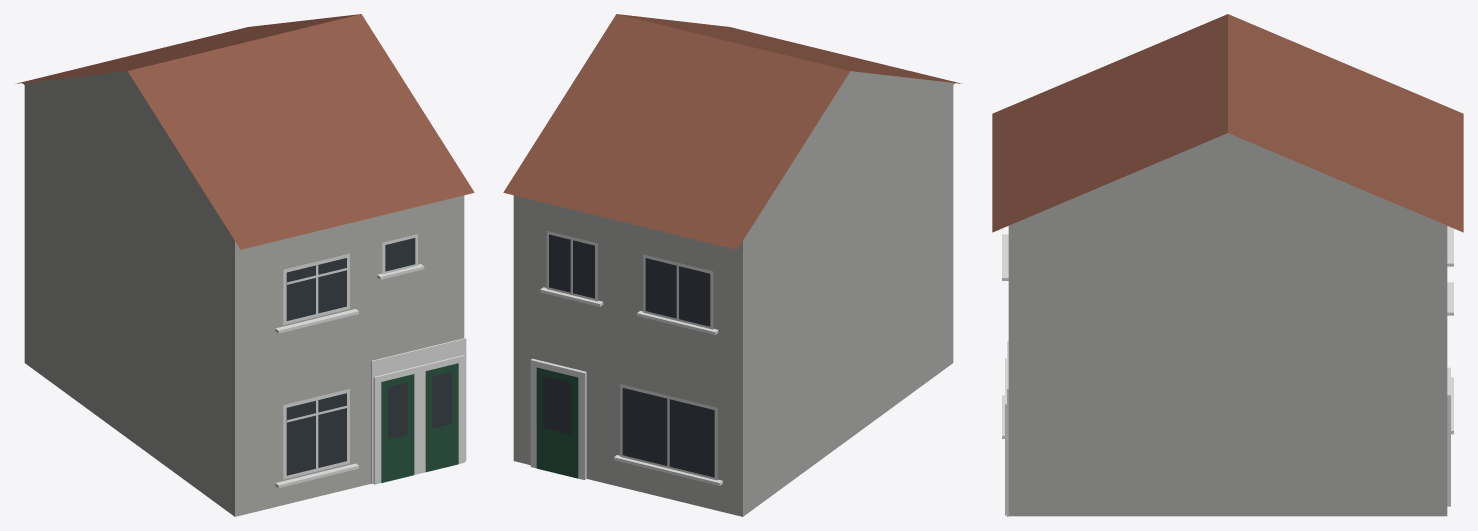
Rendered from nd-td-pomona__grey__2__gable__long__solid__f0d0.glb.
3 renders of one model, left to right at view 1: azimuth 30°, elevation 25°; view 2: azimuth 150°, elevation 25°; view 3: azimuth 270°, elevation 25°, orthographic. The views are drawn at different scales.
Parts seen in each view (by area): view 1: nd-td-pomona__grey__2__gable__long__solid__f0d0; view 2: nd-td-pomona__grey__2__gable__long__solid__f0d0; view 3: nd-td-pomona__grey__2__gable__long__solid__f0d0.
Part boxes in pixels (box(x1,y1,x2,y2)): nd-td-pomona__grey__2__gable__long__solid__f0d0: box(15, 14, 474, 516); nd-td-pomona__grey__2__gable__long__solid__f0d0: box(503, 14, 962, 516); nd-td-pomona__grey__2__gable__long__solid__f0d0: box(992, 14, 1463, 516).
Size of the model in its own units: 5.08 by 7.67 by 8.52.
